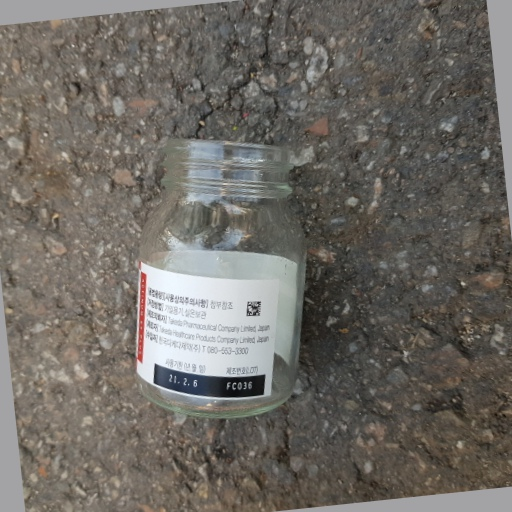Glass_5: (129, 132, 309, 427)
